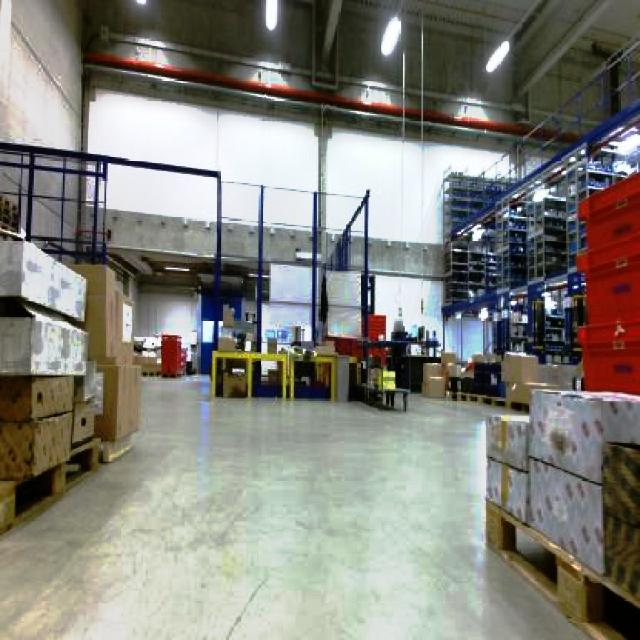ground: (0, 371, 631, 638)
pallet: (480, 89, 638, 638), (0, 206, 140, 571), (482, 386, 638, 638), (574, 152, 638, 400)
